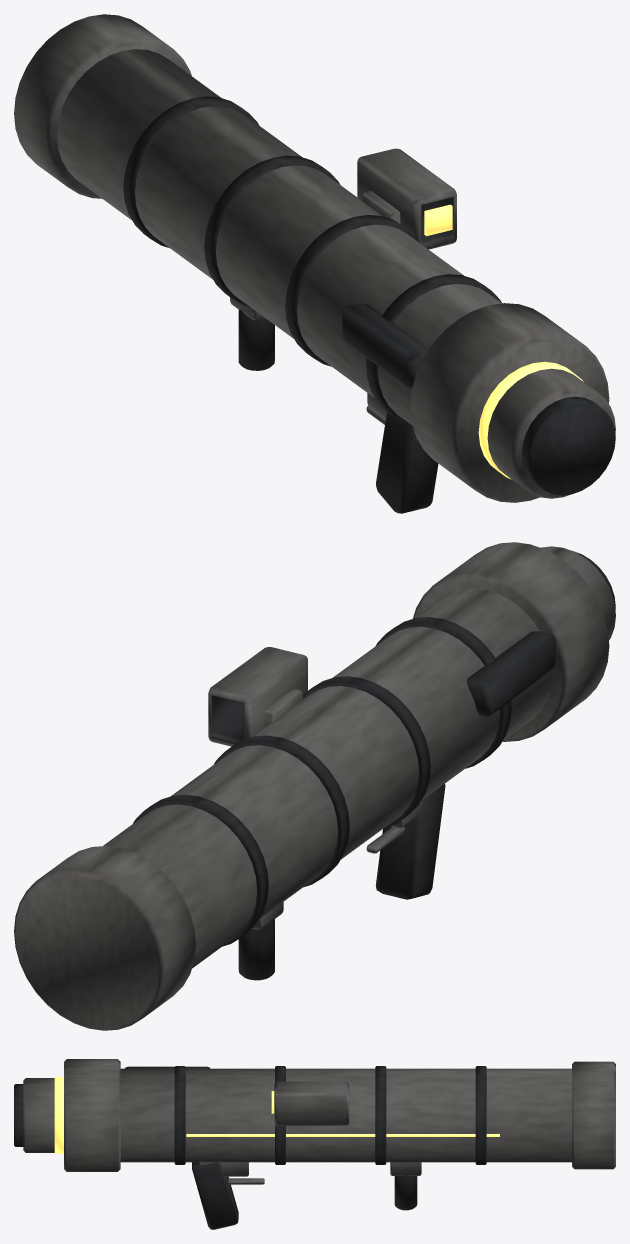
The model's file is launcher-legacy.glb.
3 views of the same model, one above another, from view 1: azimuth 30°, elevation 25°; view 2: azimuth 150°, elevation 25°; view 3: azimuth 270°, elevation 25° (orthographic). The views are drawn at different scales.
Visible parts, largest first — view 1: LauncherBody, LauncherMag, LauncherAccent; view 2: LauncherBody, LauncherMag; view 3: LauncherBody, LauncherMag, LauncherAccent.
Boxes of the visible parts, <box> form: LauncherBody: <box>14,14,609,513</box>; LauncherMag: <box>487,368,615,498</box>; LauncherAccent: <box>424,204,583,479</box>; LauncherBody: <box>14,542,609,1030</box>; LauncherMag: <box>540,546,615,640</box>; LauncherBody: <box>64,1059,615,1229</box>; LauncherMag: <box>14,1078,54,1152</box>; LauncherAccent: <box>54,1077,499,1153</box>.
Bounding box in the file's own units: 0.2 × 0.2843 × 0.96.
Materials: 2 (1 with a texture image).
